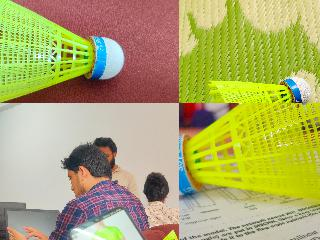shuttlecock: (179, 103, 319, 208), (0, 0, 126, 102), (208, 76, 311, 102), (161, 229, 178, 239)
